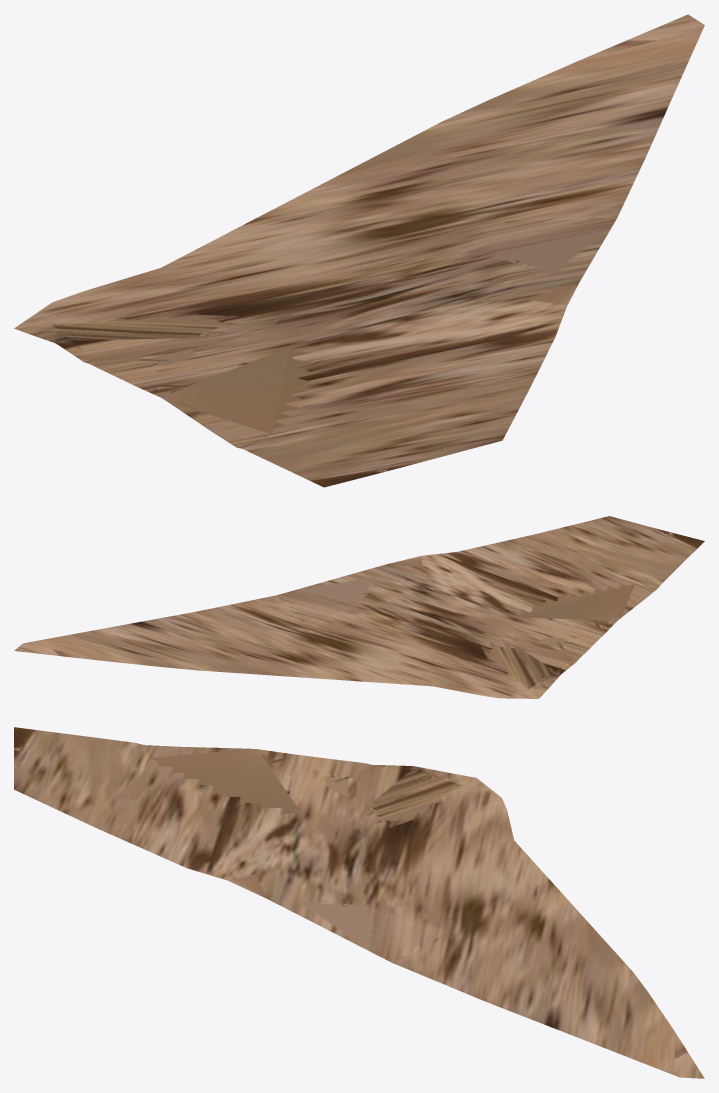
3 views of the same model, one above another, from view 1: azimuth 30°, elevation 25°; view 2: azimuth 150°, elevation 25°; view 3: azimuth 270°, elevation 25° (orthographic). The views are drawn at different scales.
Size of the model in its own units: 4.18 by 0.3434 by 4.05.
Materials: 2 (2 with a texture image).
